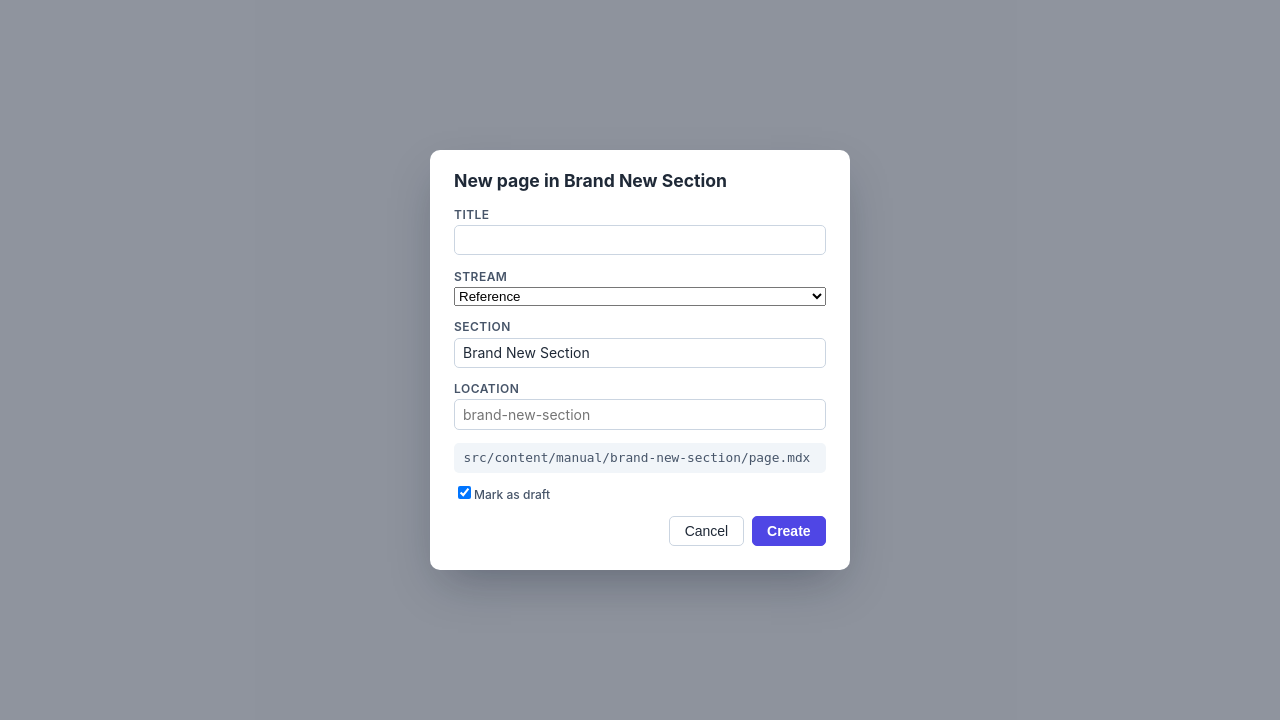
it: sectionPrefill for a section with no pages leaves Location empty (falls back to section slug)
The image size is (1280, 720).
expect the field with id "new-page-location" is empty: met, box [454,400,826,430]
Type "First Page" into the field labelled "Title" at (640, 240), box [454,225,826,255]
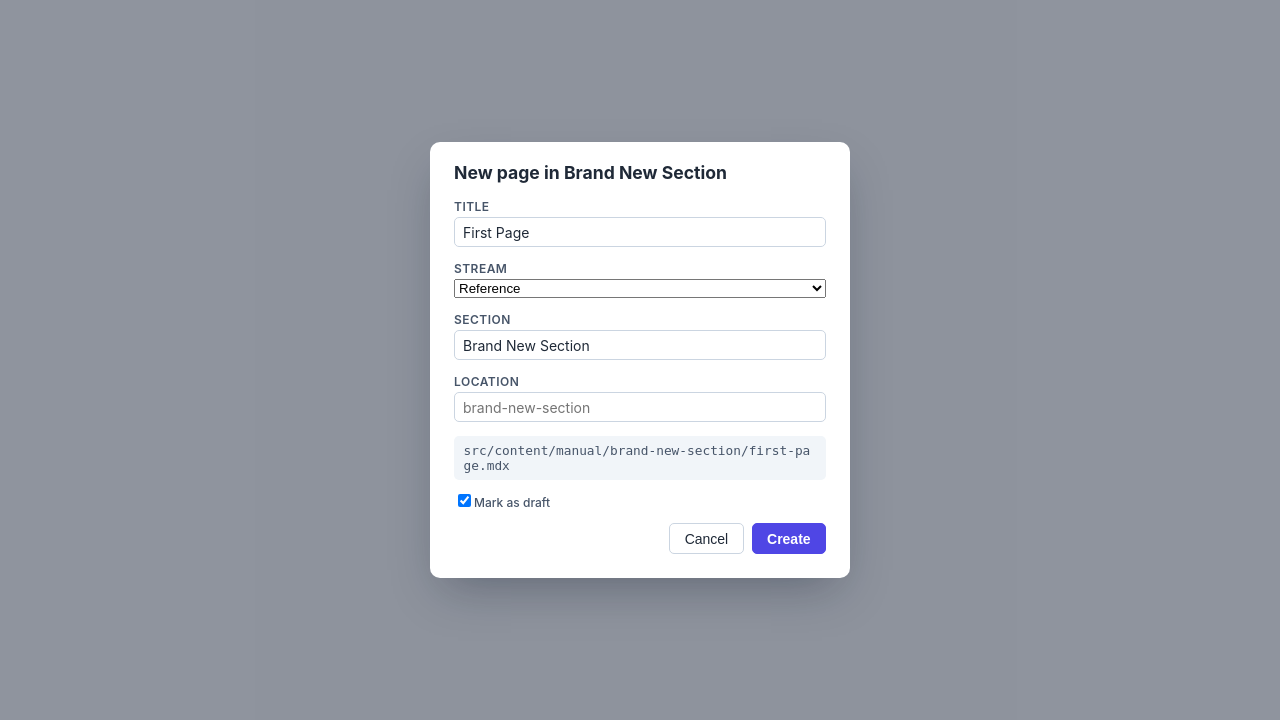
expect the text with test id "new-page-path-preview" reads "src/content/manual/brand-new-section/first-page.mdx": met, box [464,443,810,473]
